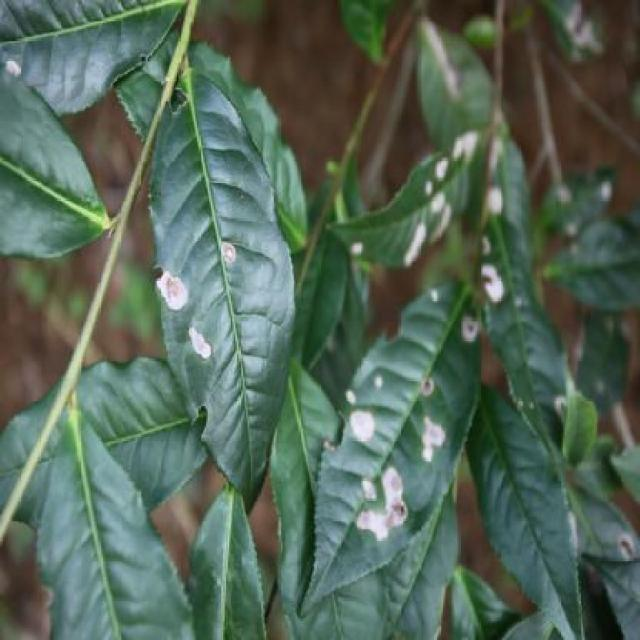Leaf rust of tea: (149, 112, 305, 468), (303, 302, 495, 590), (312, 144, 477, 282)
